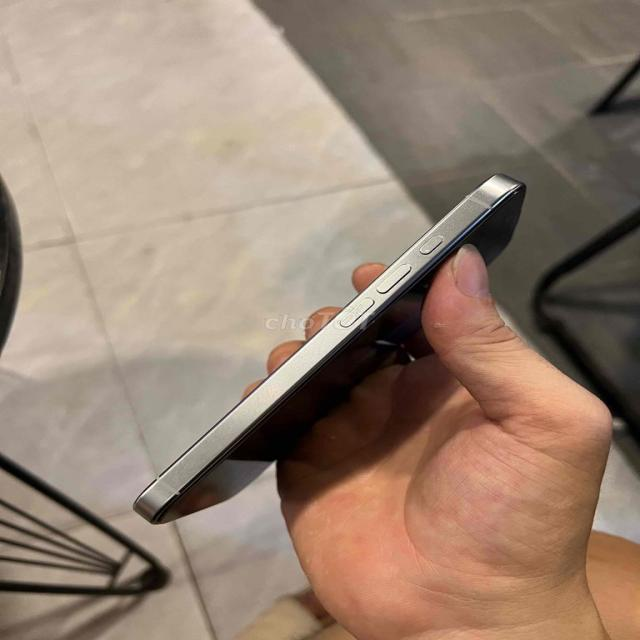gen_16: (125, 171, 536, 538)
